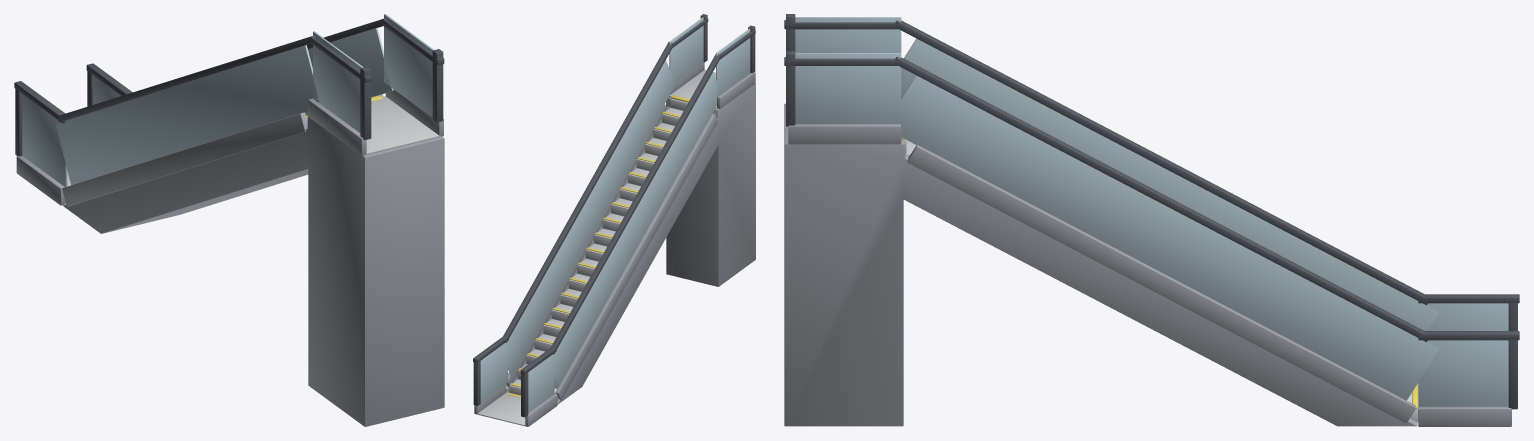
Rendered from th11_rolltreppe.glb.
3 views of the same model, side by side, from view 1: azimuth 30°, elevation 25°; view 2: azimuth 150°, elevation 25°; view 3: azimuth 270°, elevation 25° (orthographic). The views are drawn at different scales.
Visible parts, largest first — view 1: Trog, Cube.041, Cube.040, Cube.063, Cube.059, Cube.049, Cube.057, Cube.042, Cube.044, Cube.058, Cube.048, Cube.065 (+9 smaller); view 2: Trog, Cube.044, Cube.041, Cube.040, Cube.045, Cube.042, Cube.043, Cube.063, Cube.059, Cube.053, Cube.049, Cube.046 (+9 smaller); view 3: Trog, Cube.044, Cube.041, Cube.043, Cube.063, Cube.042, Cube.045, Cube.053, Cube.059, Cube.062, Cube.049, Cube.052 (+6 smaller).
Boxes of the visible parts, <box> form: Trog: <box>63,116,444,426</box>; Cube.041: <box>55,45,319,185</box>; Cube.040: <box>62,112,307,206</box>; Cube.063: <box>384,14,434,117</box>; Cube.059: <box>313,31,363,132</box>; Cube.049: <box>22,94,67,187</box>; Cube.057: <box>365,96,441,155</box>; Cube.042: <box>57,35,315,122</box>; Cube.044: <box>305,28,393,115</box>; Cube.058: <box>308,98,366,155</box>; Cube.048: <box>16,156,65,205</box>; Cube.065: <box>432,49,443,122</box>; Trog: <box>506,83,755,404</box>; Cube.044: <box>501,60,675,375</box>; Cube.041: <box>548,72,719,387</box>; Cube.040: <box>555,114,717,400</box>; Cube.045: <box>503,42,673,342</box>; Cube.042: <box>550,54,720,354</box>; Cube.043: <box>506,104,666,387</box>; Cube.063: <box>669,17,703,82</box>; Cube.059: <box>716,28,750,96</box>; Cube.053: <box>480,343,507,402</box>; Cube.049: <box>528,355,554,412</box>; Cube.046: <box>476,392,526,426</box>; Trog: <box>784,103,1417,426</box>; Cube.044: <box>886,75,1439,400</box>; Cube.041: <box>901,38,1439,330</box>; Cube.043: <box>907,144,1416,423</box>; Cube.063: <box>795,53,901,123</box>; Cube.042: <box>894,20,1428,304</box>; Cube.045: <box>895,57,1427,341</box>; Cube.053: <box>1418,340,1508,406</box>; Cube.059: <box>795,17,901,53</box>; Cube.062: <box>788,124,901,144</box>; Cube.049: <box>1419,303,1508,330</box>; Cube.052: <box>1418,406,1511,426</box>.
Size of the model in its own units: 1.28 by 5.27 by 9.43.
